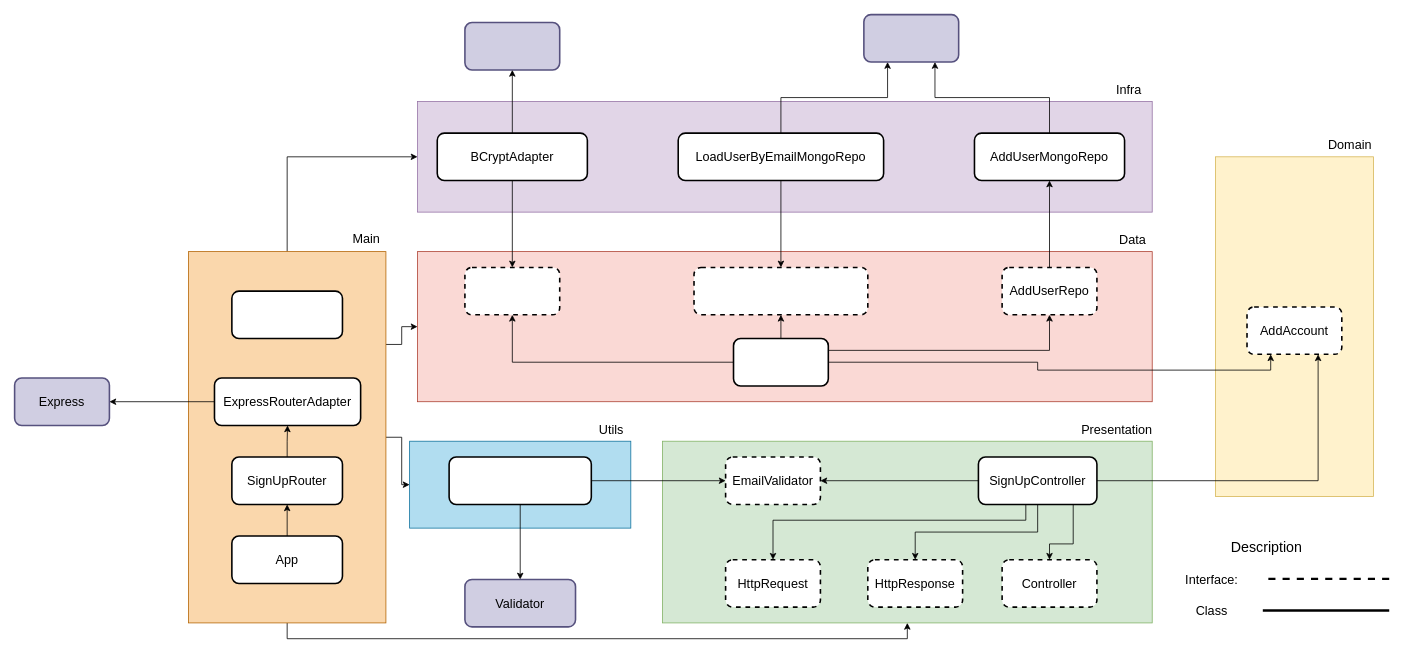
The diagram is 1405 pixels wide and 659 high, and some of its shapes have lost their labels. The shapes that lost their labels are listed below. From the top down, each one's box as (x1, y1, x2, y2) in pixels, then its label:
(464, 21, 560, 70): BCrypt
(863, 13, 959, 62): MongoDb
(464, 266, 560, 315): Encrypter
(693, 266, 868, 315): LoadUserByEmailRepo
(231, 290, 343, 339): SignUpComposer
(732, 337, 829, 386): DbAddAccount
(448, 456, 592, 505): EmailValidatorAdapter
